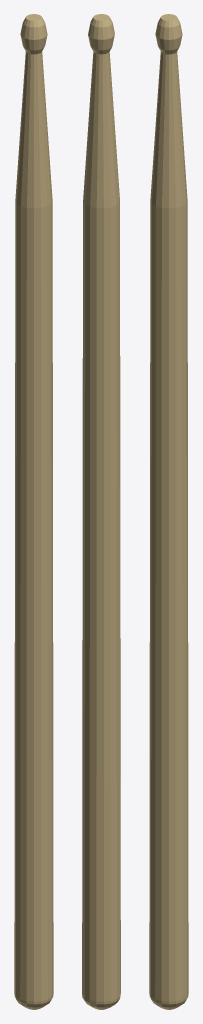
File: drumstick.fbx
The picture shows the model from 3 angles, left to right: view 1: azimuth 90°, elevation 25°; view 2: azimuth 210°, elevation 25°; view 3: azimuth 270°, elevation 25°; orthographic projection.
Visible parts, largest first — view 1: Drumstick; view 2: Drumstick; view 3: Drumstick.
Part boxes in pixels (bbox=[...]): Drumstick: bbox=[14, 14, 53, 1009]; Drumstick: bbox=[82, 14, 120, 1009]; Drumstick: bbox=[149, 14, 188, 1009].
Size of the model in its own units: 35.07 by 978 by 35.07.
